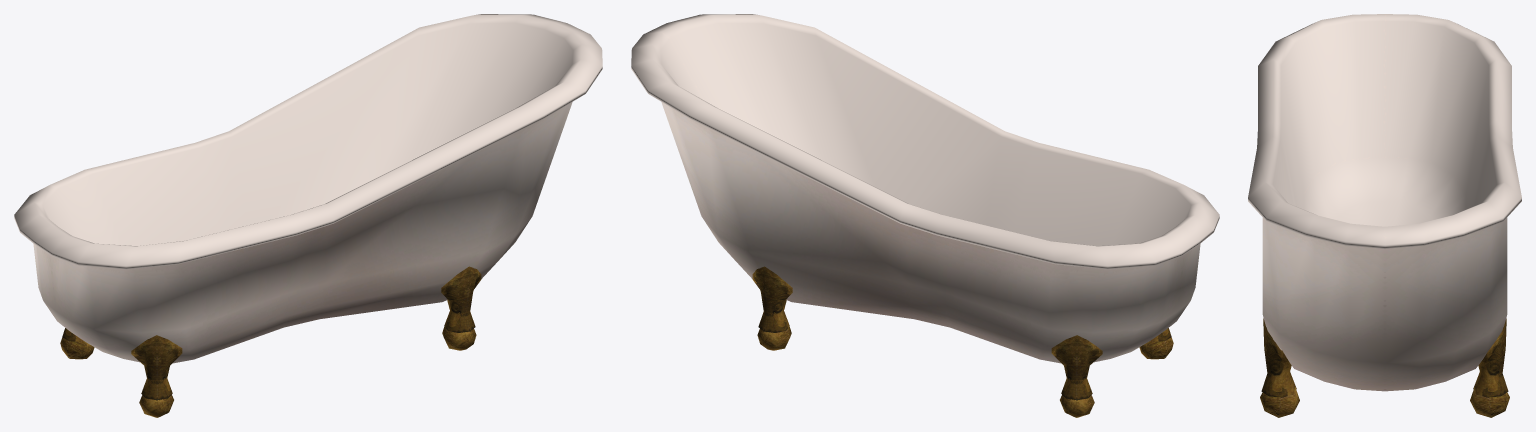
Rendered from bath_no_blood.DAE.
3 views of the same model, side by side, from view 1: azimuth 30°, elevation 25°; view 2: azimuth 150°, elevation 25°; view 3: azimuth 270°, elevation 25° (orthographic). The views are drawn at different scales.
Visible parts, largest first — view 1: Box001; view 2: Box001; view 3: Box001.
Part boxes in pixels (x1=…): Box001: x1=14, y1=14, x2=602, y2=417; Box001: x1=631, y1=14, x2=1219, y2=417; Box001: x1=1248, y1=14, x2=1521, y2=417.
Size of the model in its own units: 2.51 by 0.9454 by 1.06.
